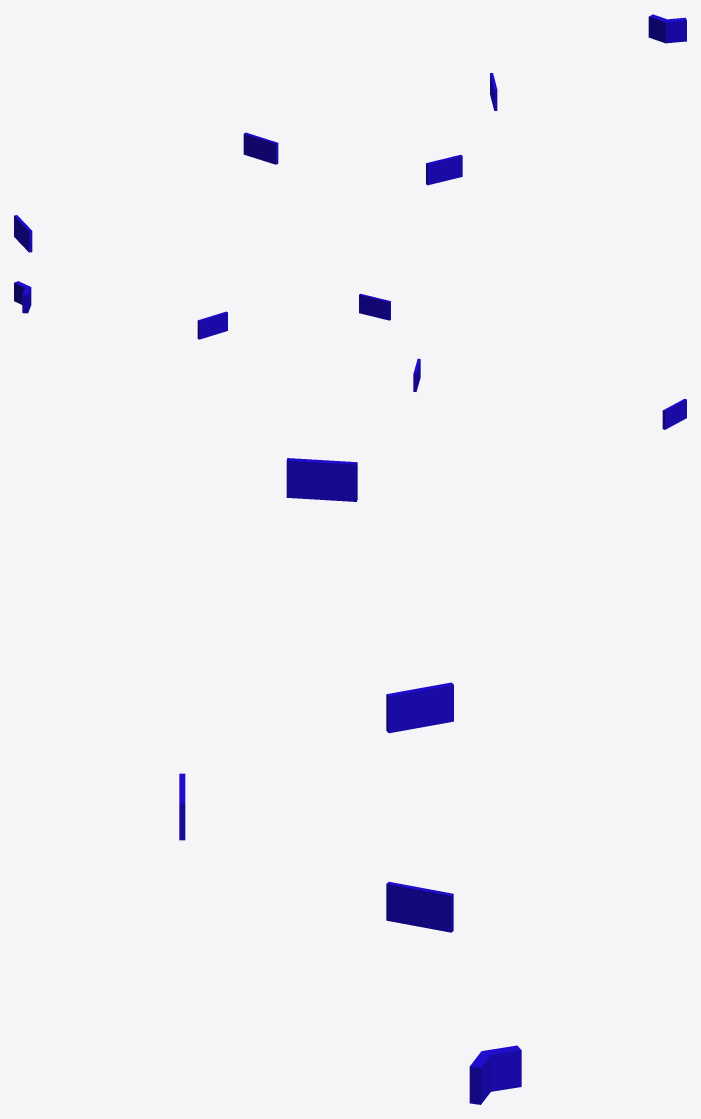
File: puertasAzules.fbx
3 renders of one model, top to bottom at view 1: azimuth 30°, elevation 25°; view 2: azimuth 150°, elevation 25°; view 3: azimuth 270°, elevation 25°, orthographic. The views are drawn at different scales.
Parts seen in each view (by area): view 1: Curve.038, Curve.037, Curve.034, Curve.045; view 2: Curve.037, Curve.036, Curve.045, Curve.038; view 3: Curve.045, Curve.034, Curve.036, Curve.038.
Part boxes in pixels (left/top/right/bottom): Curve.038: left=648, top=14, right=686, bottom=43; Curve.037: left=426, top=154, right=462, bottom=185; Curve.034: left=243, top=132, right=278, bottom=164; Curve.045: left=14, top=215, right=32, bottom=252; Curve.037: left=359, top=293, right=390, bottom=320; Curve.036: left=197, top=311, right=227, bottom=339; Curve.045: left=662, top=398, right=686, bottom=429; Curve.038: left=14, top=281, right=31, bottom=313; Curve.045: left=286, top=458, right=357, bottom=501; Curve.034: left=386, top=682, right=453, bottom=733; Curve.036: left=386, top=882, right=453, bottom=932; Curve.038: left=469, top=1045, right=521, bottom=1104.
Bounding box in the file's own units: 9439 × 269 × 2238.
